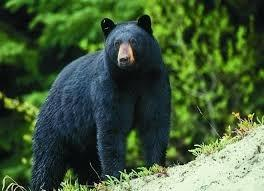bear: (32, 13, 171, 191)
